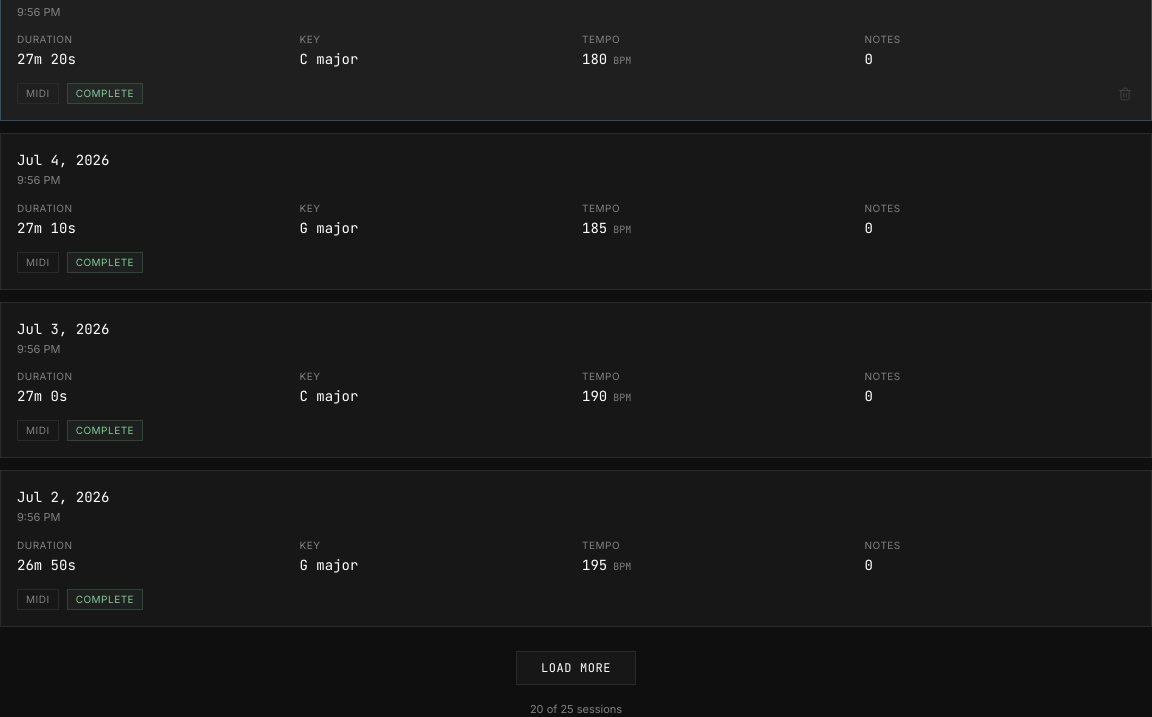
Scenario: SessionHistoryList pagination › appends next page when Load More is clicked
(page scrolled)
Step 1. Click the button "Load More" → (576, 668), box [516,650,636,684]
(page scrolled)
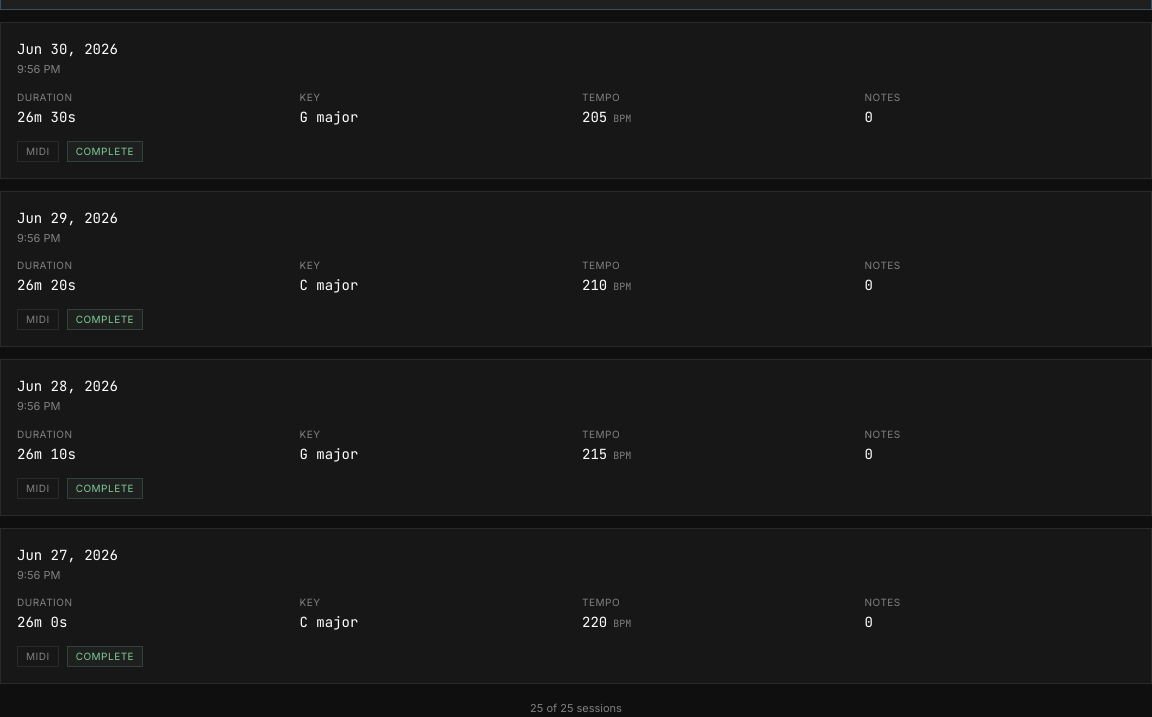
Now the text "25 of 25 sessions" is shown, box [530,701,622,715]
